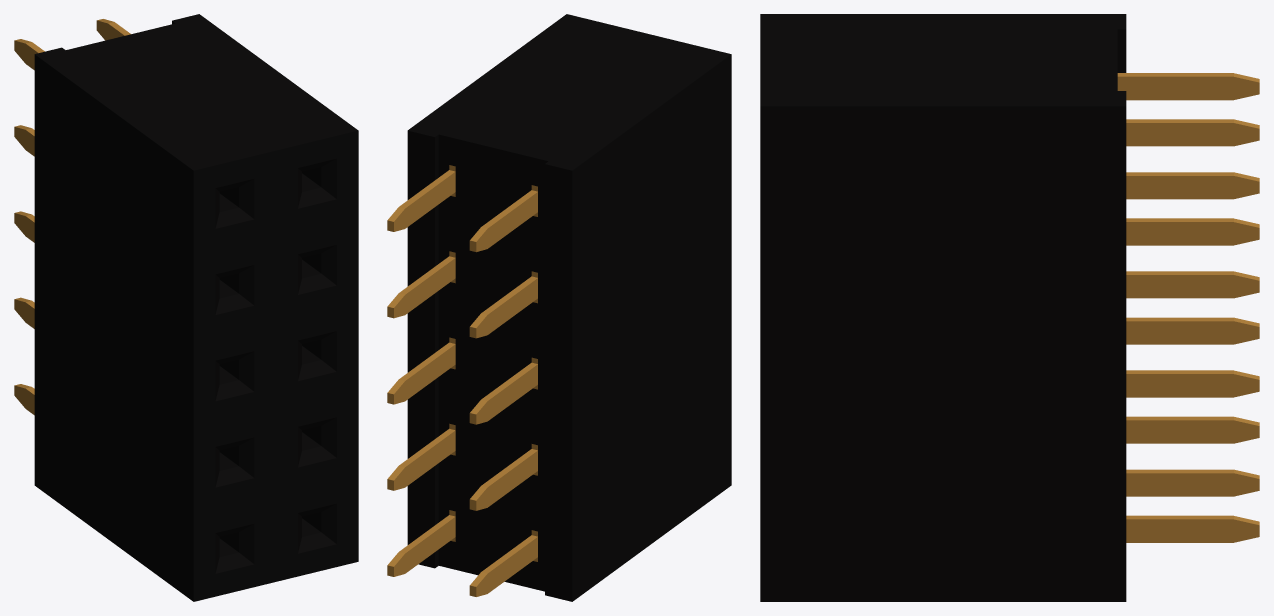
File: triangulated.obj
3 views of the same model, side by side, from view 1: azimuth 30°, elevation 25°; view 2: azimuth 150°, elevation 25°; view 3: azimuth 270°, elevation 25° (orthographic). The views are drawn at different scales.
Bounding box in the file's own units: 5.08 × 12.7 × 11.6.
